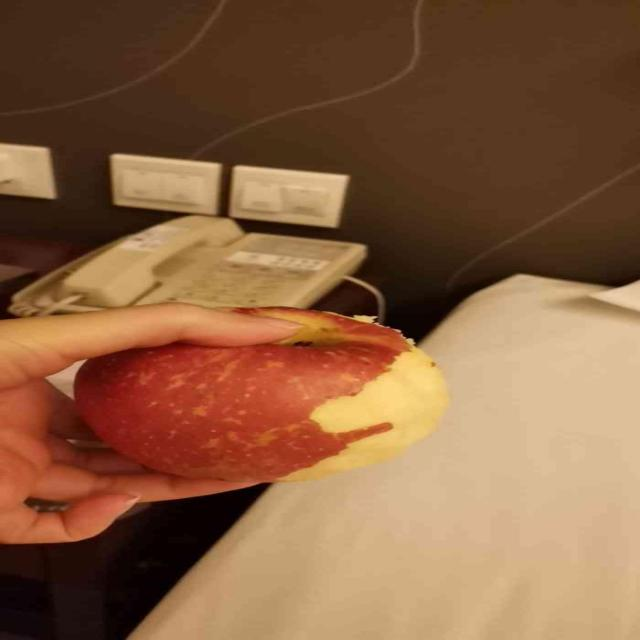Rotten: (48, 302, 434, 494)
